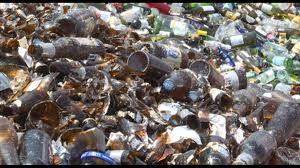glass: (27, 34, 109, 63), (232, 124, 278, 168), (127, 50, 182, 83), (189, 58, 237, 90), (18, 128, 56, 168), (267, 95, 300, 141), (155, 14, 210, 41), (162, 64, 204, 97), (25, 100, 66, 130), (219, 30, 259, 49), (101, 146, 139, 164), (267, 54, 295, 69), (253, 68, 277, 85)
plastic: (78, 148, 117, 164)
